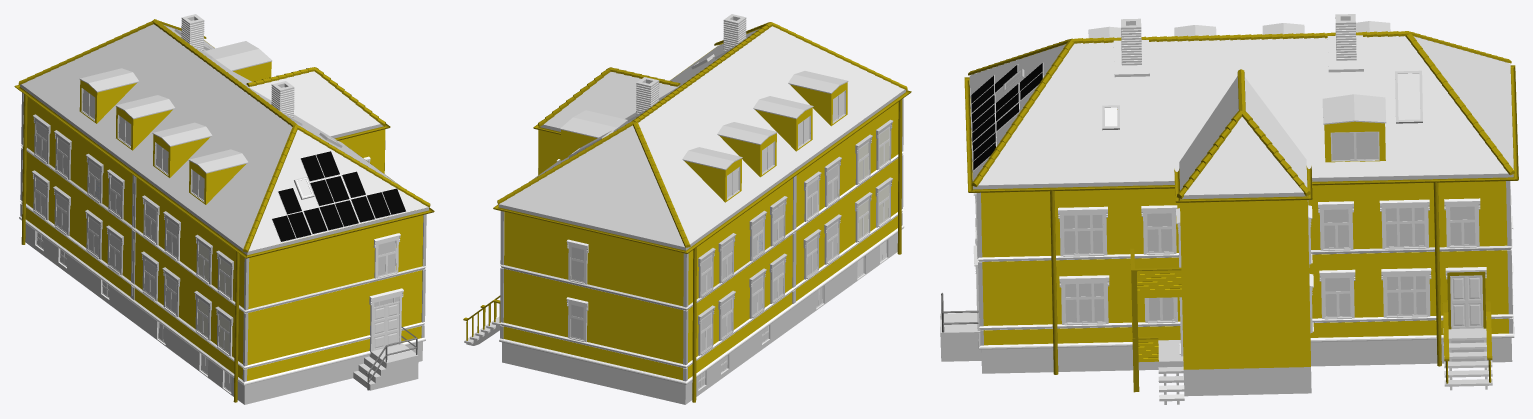
The model's file is house_panel_1_0001.glb.
3 views of the same model, side by side, from view 1: azimuth 30°, elevation 25°; view 2: azimuth 150°, elevation 25°; view 3: azimuth 270°, elevation 25° (orthographic). The views are drawn at different scales.
Parts seen in each view (by area): view 1: SketchUp.874, SketchUp.871, SketchUp.865, SketchUp.002, SketchUp.511, SketchUp.484, SketchUp.001, SketchUp.872, SketchUp.015, SketchUp.057, SketchUp.052, SketchUp.734 (+33 smaller); view 2: SketchUp.874, SketchUp.871, SketchUp.002, SketchUp.865, SketchUp.511, SketchUp.484, SketchUp.001, SketchUp.872, SketchUp.057, SketchUp.052, SketchUp.734, SketchUp.522 (+14 smaller); view 3: SketchUp.871, SketchUp.874, SketchUp.868, SketchUp.865, SketchUp.002, SketchUp, SketchUp.511, SketchUp.872, SketchUp.734, SketchUp.057, SketchUp.484, SketchUp.019 (+30 smaller).
Boxes of the visible parts, bbox=[...] form: SketchUp.874: bbox=[25, 97, 423, 380]; SketchUp.871: bbox=[21, 24, 428, 251]; SketchUp.865: bbox=[249, 71, 380, 136]; SketchUp.002: bbox=[25, 224, 422, 404]; SketchUp.511: bbox=[14, 40, 434, 258]; SketchUp.484: bbox=[19, 216, 425, 385]; SketchUp.001: bbox=[109, 286, 199, 370]; SketchUp.872: bbox=[20, 84, 428, 255]; SketchUp.015: bbox=[353, 351, 418, 390]; SketchUp.057: bbox=[20, 200, 425, 369]; SketchUp.052: bbox=[21, 144, 426, 313]; SketchUp.734: bbox=[205, 41, 272, 71]; SketchUp.874: bbox=[503, 102, 898, 380]; SketchUp.871: bbox=[499, 26, 904, 247]; SketchUp.002: bbox=[502, 232, 897, 404]; SketchUp.865: bbox=[544, 72, 678, 128]; SketchUp.511: bbox=[493, 48, 911, 253]; SketchUp.484: bbox=[499, 225, 904, 384]; SketchUp.001: bbox=[770, 262, 857, 343]; SketchUp.872: bbox=[498, 89, 905, 250]; SketchUp.057: bbox=[499, 209, 903, 368]; SketchUp.052: bbox=[500, 153, 902, 310]; SketchUp.734: bbox=[560, 110, 627, 138]; SketchUp.522: bbox=[790, 82, 847, 126]; SketchUp.871: bbox=[969, 36, 1513, 185]; SketchUp.874: bbox=[981, 109, 1508, 345]; SketchUp.868: bbox=[1180, 200, 1310, 369]; SketchUp.865: bbox=[1179, 76, 1307, 195]; SketchUp.002: bbox=[981, 338, 1512, 373]; SketchUp: bbox=[1183, 366, 1311, 396]; SketchUp.511: bbox=[964, 65, 1518, 192]; SketchUp.872: bbox=[969, 77, 1513, 189]; SketchUp.734: bbox=[1322, 94, 1386, 124]; SketchUp.057: bbox=[975, 218, 1513, 330]; SketchUp.484: bbox=[975, 240, 1514, 349]; SketchUp.019: bbox=[1137, 270, 1181, 298].
Size of the model in its own units: 13.74 by 13.47 by 22.92.
